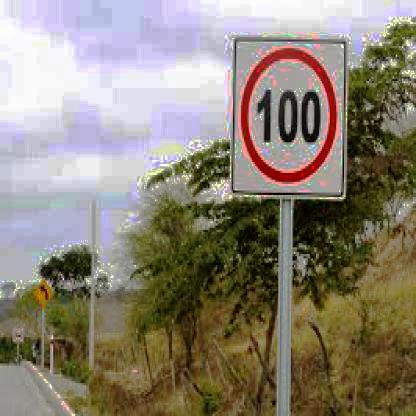Speed Limit -100-: (235, 43, 341, 183)
